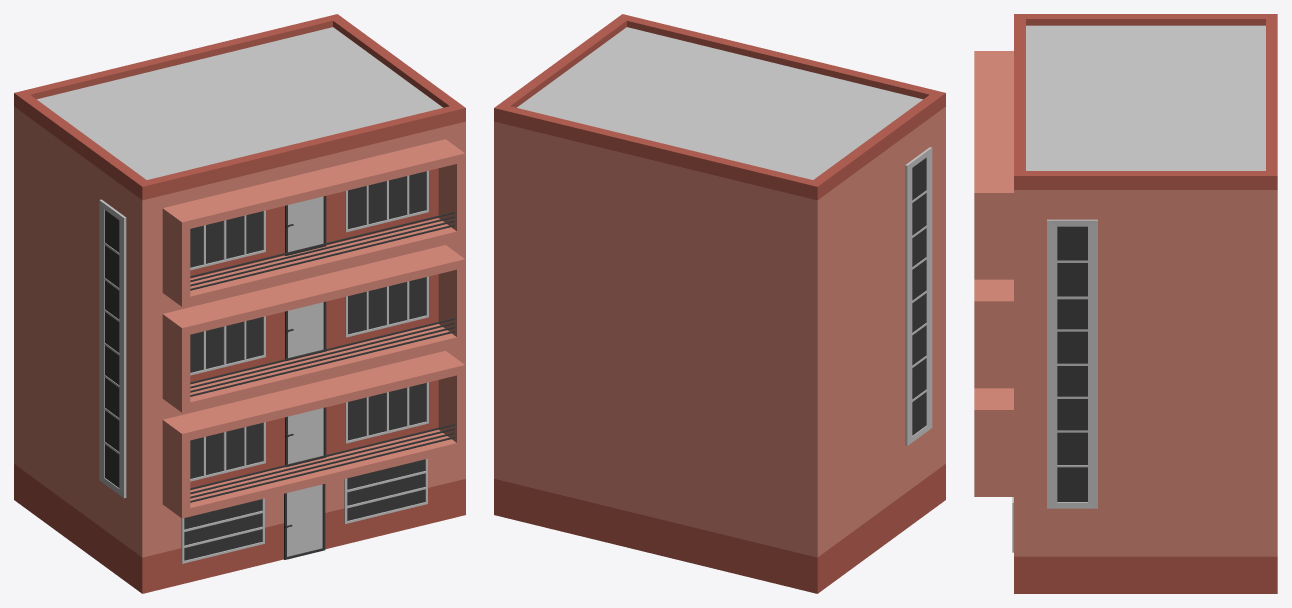
File: building-residential-color02.glb
3 views of the same model, side by side, from view 1: azimuth 30°, elevation 25°; view 2: azimuth 150°, elevation 25°; view 3: azimuth 270°, elevation 25° (orthographic). The views are drawn at different scales.
Visible parts, largest first — view 1: model; view 2: model; view 3: model.
Boxes of the visible parts, left/top/right/bottom form: model: left=14, top=14, right=465, bottom=593; model: left=494, top=14, right=945, bottom=593; model: left=974, top=14, right=1277, bottom=593.
Size of the model in its own units: 16.23 by 19.24 by 12.66.
Materials: 1 (1 with a texture image).
